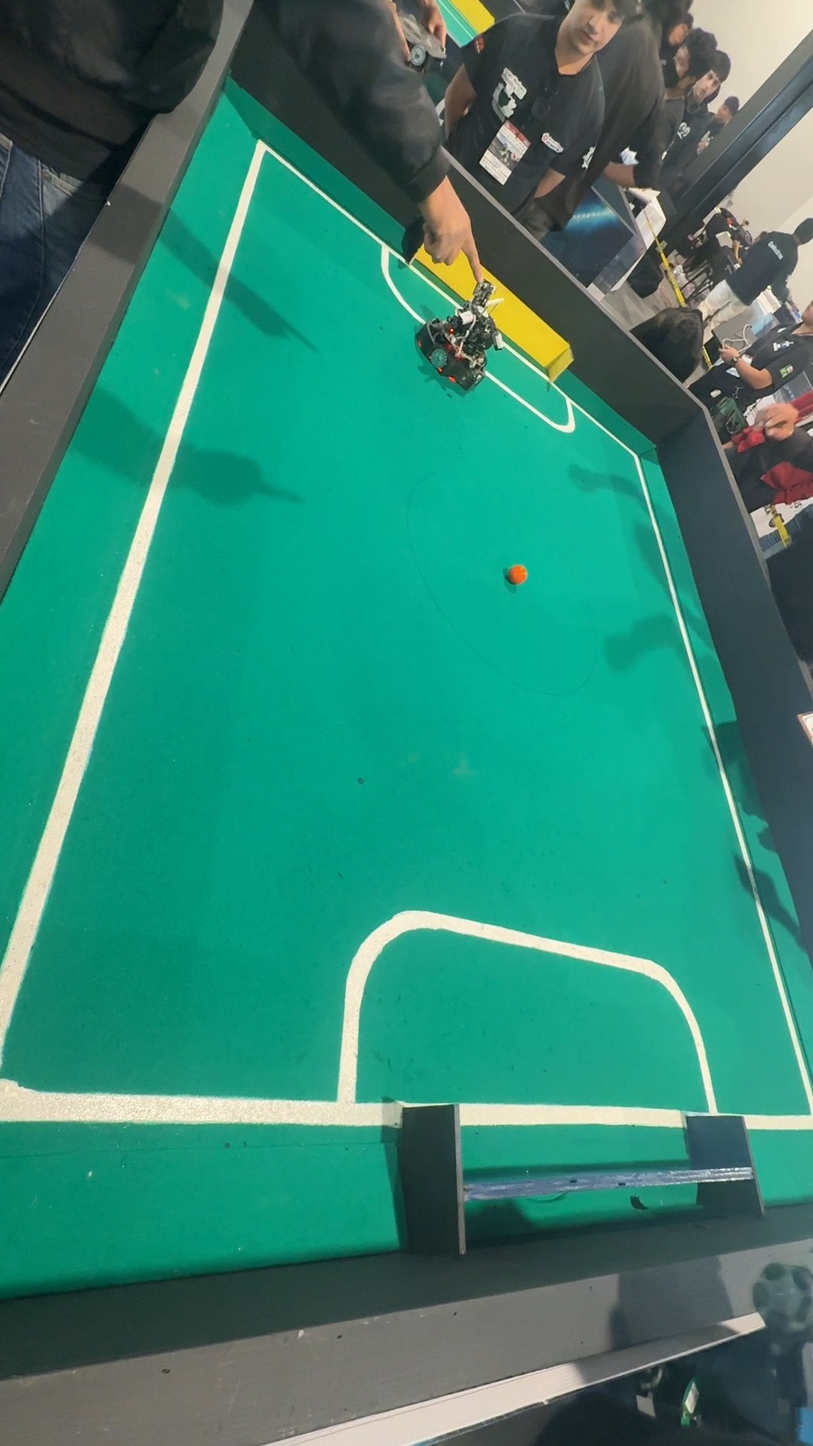Robot: (410, 266, 506, 402)
pelota: (494, 550, 537, 598)
